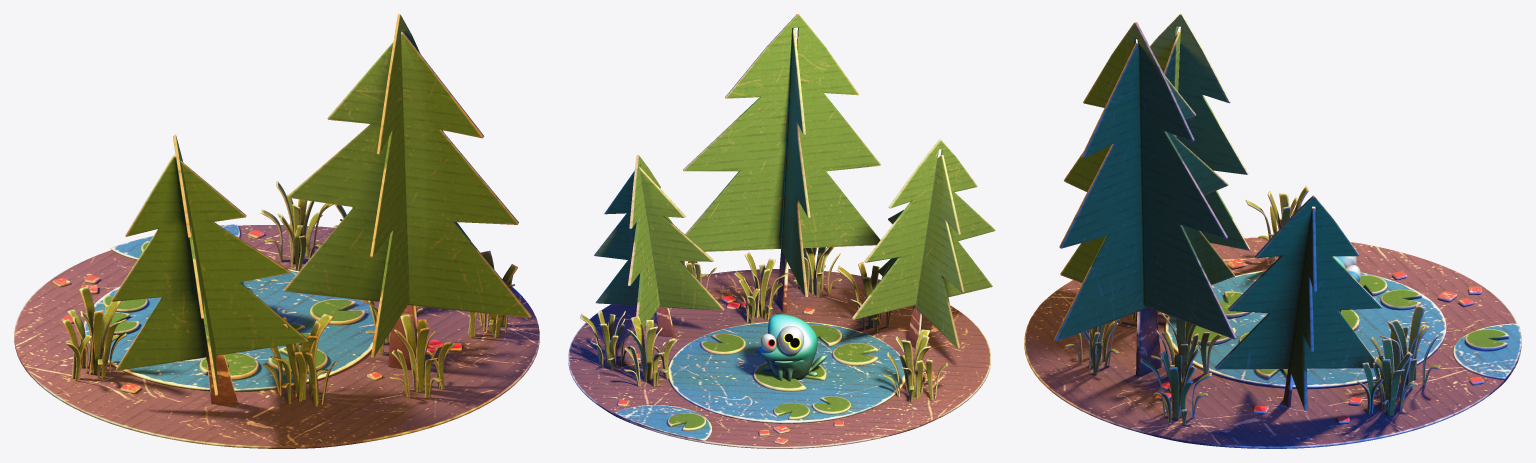
The model's file is frog.glb.
3 views of the same model, side by side, from view 1: azimuth 30°, elevation 25°; view 2: azimuth 150°, elevation 25°; view 3: azimuth 270°, elevation 25° (orthographic). The views are drawn at different scales.
Parts seen in each view (by area): view 1: ENV; view 2: ENV, FROG. OUT; view 3: ENV.
Boxes of the visible parts, x1,y1,x2,y2 form: ENV: (14,14,539,448); ENV: (568,14,995,448); FROG. OUT: (757,314,826,381); ENV: (1024,14,1521,448).
Size of what is drawn, in the model's own units: 3.86 by 2.96 by 3.86.
2 materials, 2 textured.
